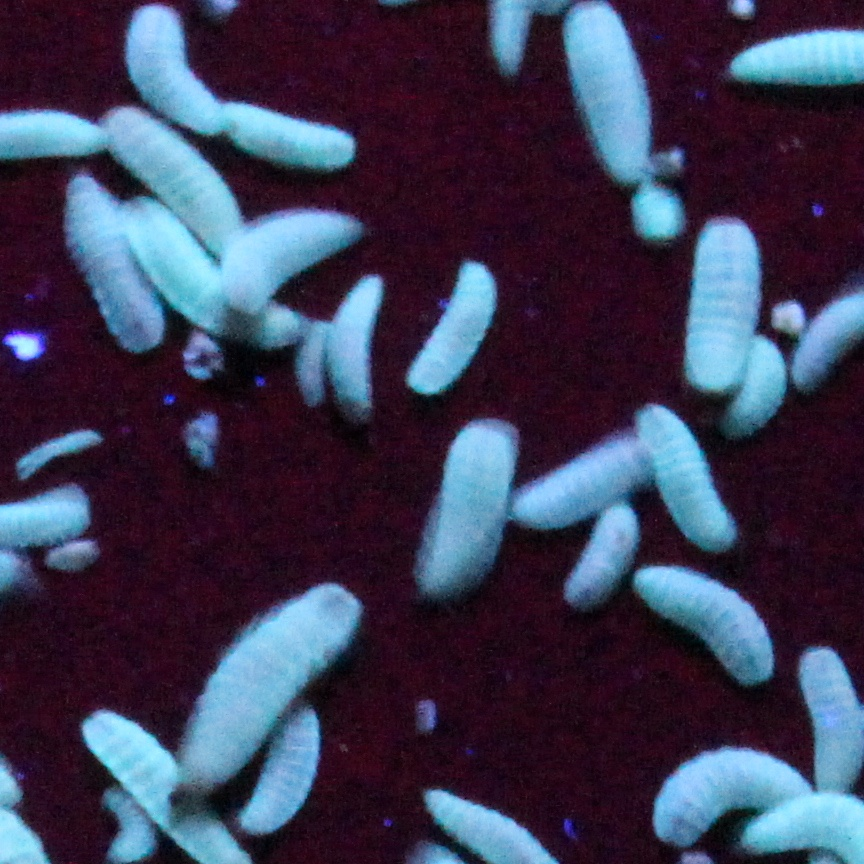larve: (173, 590, 347, 798), (394, 416, 518, 600), (50, 200, 170, 344), (646, 412, 746, 552), (642, 753, 807, 836), (402, 264, 502, 396), (126, 16, 230, 140), (630, 580, 774, 668), (522, 444, 650, 532), (238, 216, 358, 308), (694, 224, 754, 392), (247, 707, 325, 836), (218, 112, 350, 168), (19, 436, 105, 478)
